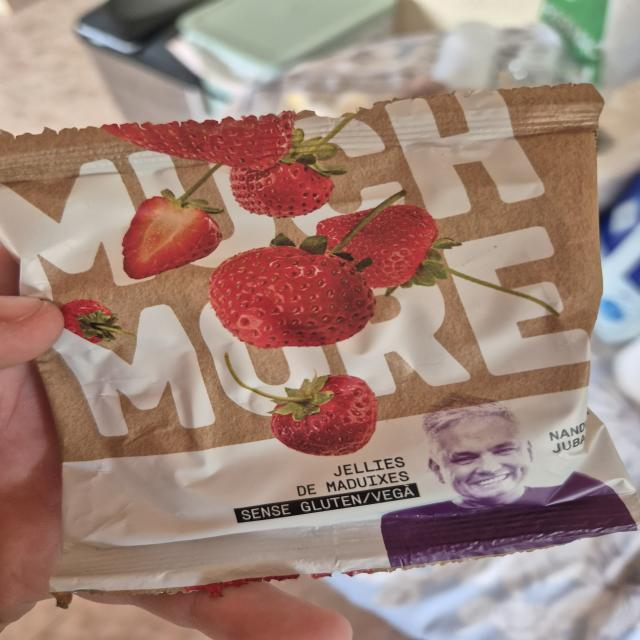fresa: (228, 247, 342, 342), (320, 210, 442, 288), (125, 193, 214, 281), (232, 132, 330, 211), (280, 370, 374, 450), (141, 115, 288, 166), (64, 298, 113, 340)
